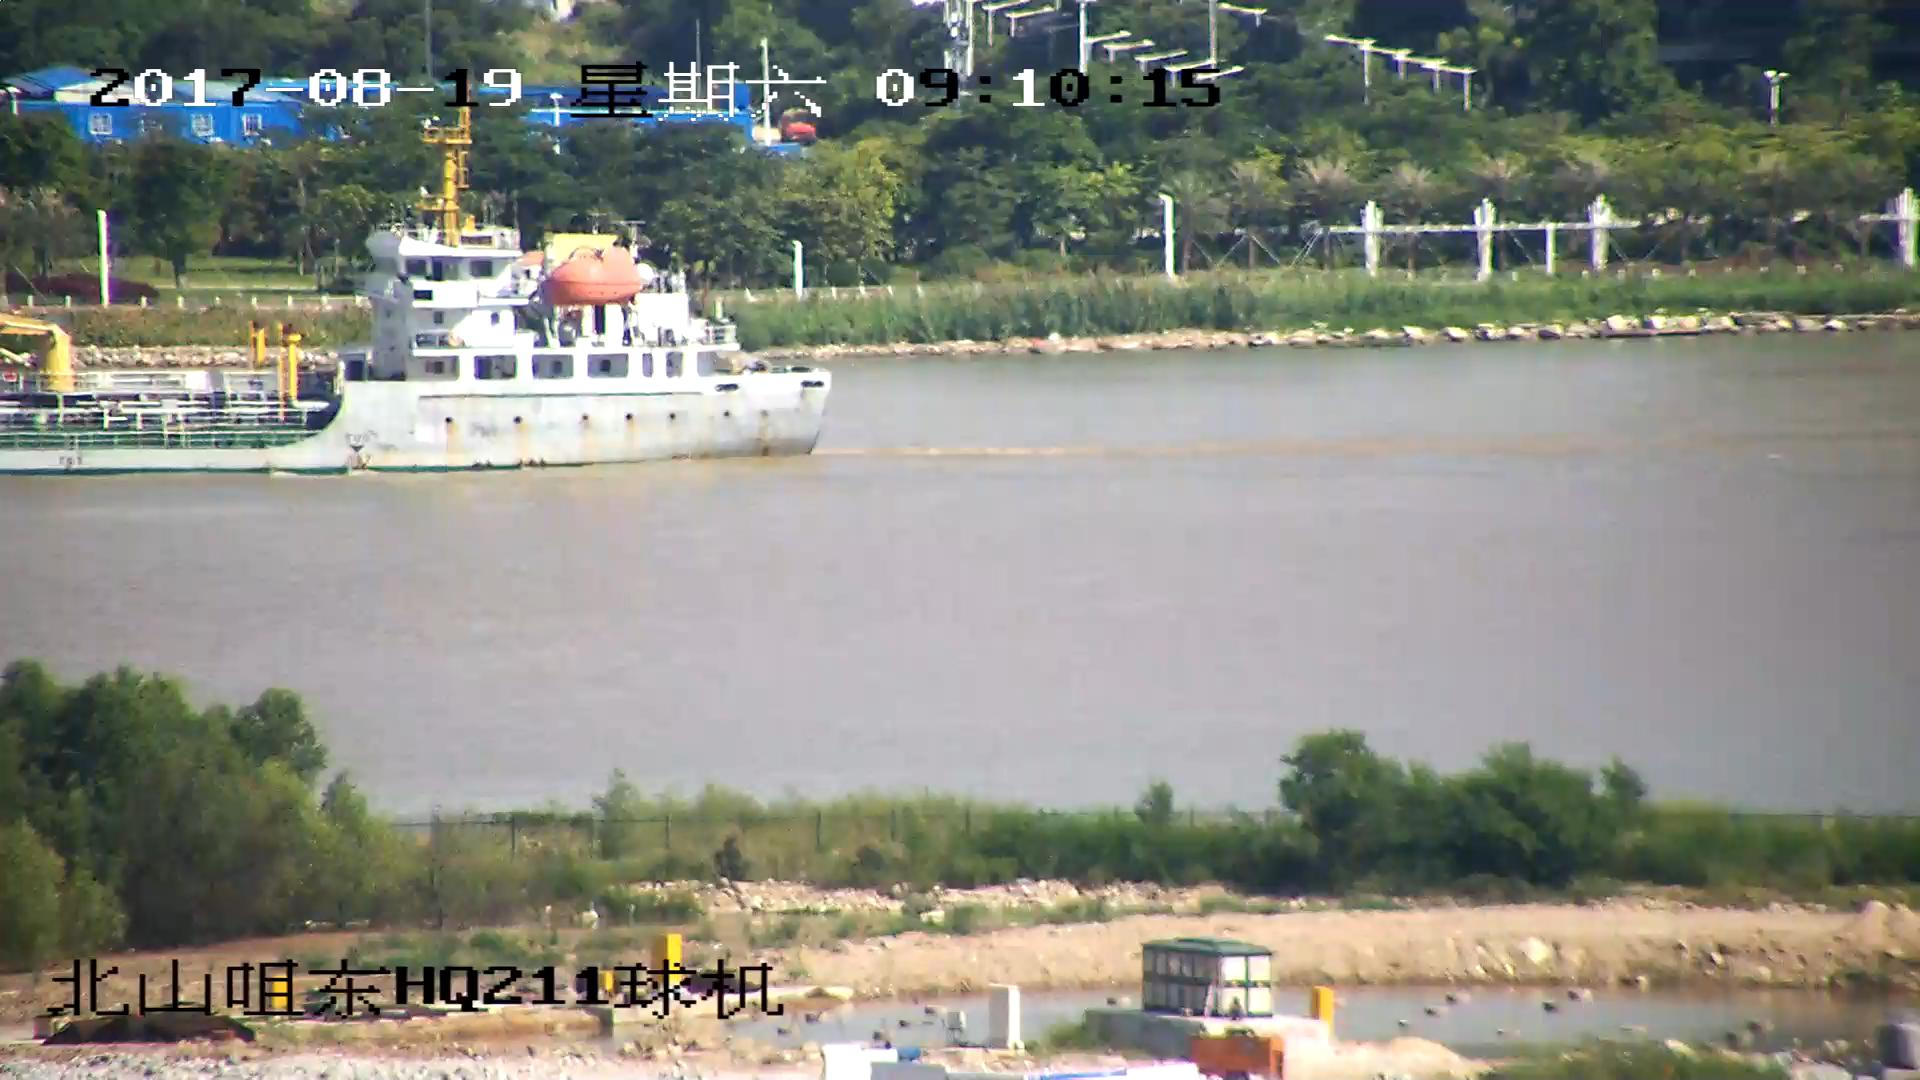general cargo ship: (1, 133, 833, 472)
